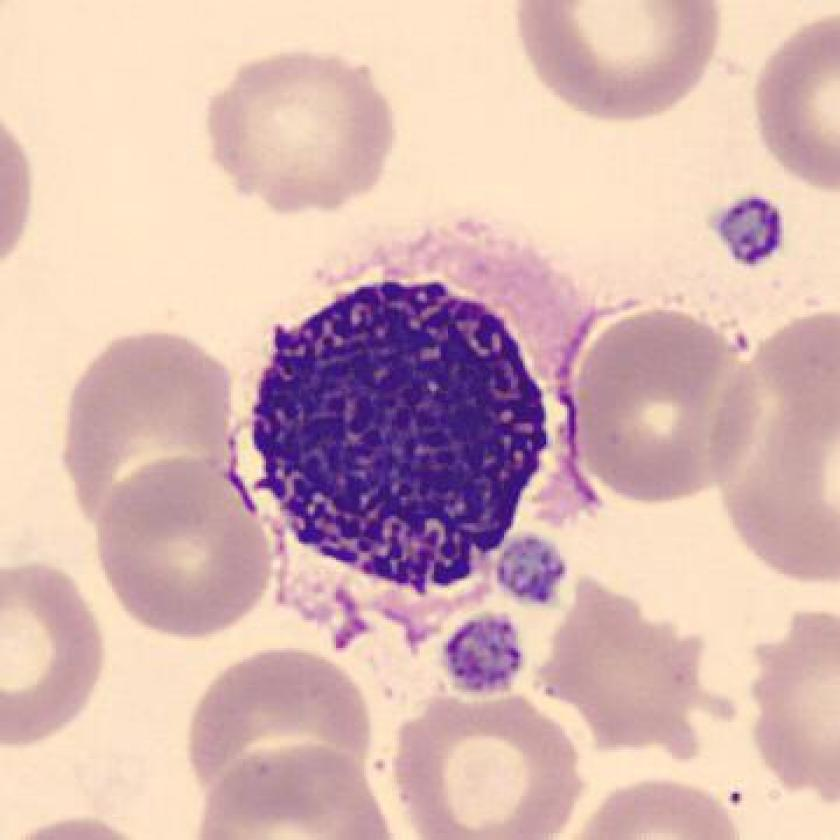basophil: (251, 274, 547, 598)
